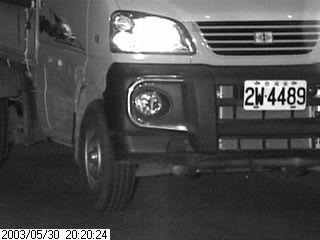plate: (243, 78, 308, 113)
